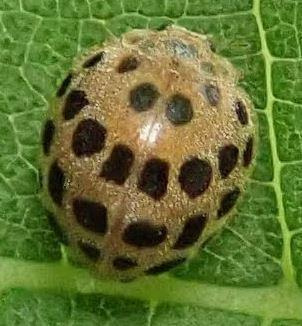ladybug: (36, 20, 264, 285)
